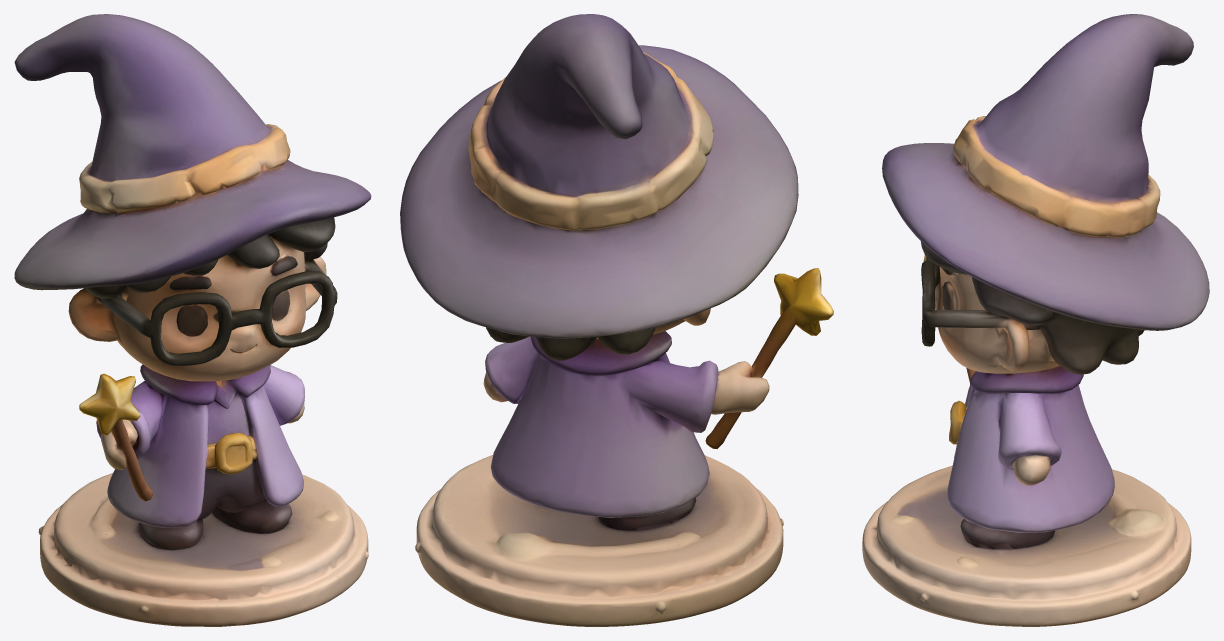
File: wizard.glb
3 renders of one model, left to right at view 1: azimuth 30°, elevation 25°; view 2: azimuth 150°, elevation 25°; view 3: azimuth 270°, elevation 25°, orthographic. The views are drawn at different scales.
Visible parts, largest first — view 1: tripo_node_0f0f7d5e-0b03-4056-bc70-0aec9deca826; view 2: tripo_node_0f0f7d5e-0b03-4056-bc70-0aec9deca826; view 3: tripo_node_0f0f7d5e-0b03-4056-bc70-0aec9deca826.
Part boxes in pixels (left/top/right/bottom): tripo_node_0f0f7d5e-0b03-4056-bc70-0aec9deca826: left=14, top=14, right=371, bottom=626; tripo_node_0f0f7d5e-0b03-4056-bc70-0aec9deca826: left=400, top=14, right=833, bottom=626; tripo_node_0f0f7d5e-0b03-4056-bc70-0aec9deca826: left=862, top=14, right=1209, bottom=626.
Size of the model in its own units: 0.6272 by 0.9796 by 0.5931.
1 material, 1 textured.
